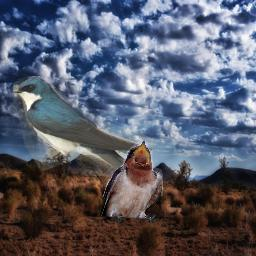Swallow: (13, 76, 153, 176), (100, 140, 163, 223)
